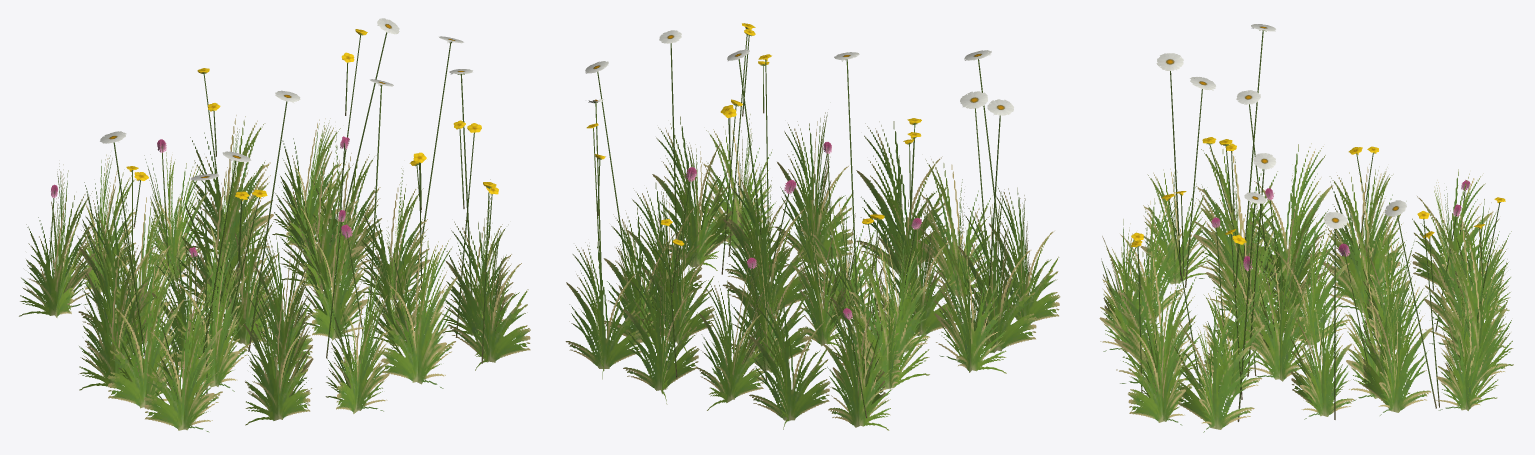
File: Wildflower_Patch.gltf
The picture shows the model from 3 angles, left to right: view 1: azimuth 30°, elevation 25°; view 2: azimuth 150°, elevation 25°; view 3: azimuth 270°, elevation 25°; orthographic projection. The views are drawn at different scales.
Visible parts, largest first — view 1: Wildflower patch; view 2: Wildflower patch; view 3: Wildflower patch.
Part boxes in pixels (x1,y1,x2,y2): Wildflower patch: (19, 18, 530, 432); Wildflower patch: (565, 23, 1060, 430); Wildflower patch: (1099, 24, 1513, 432).
Size of the model in its own units: 0.8267 by 0.5359 by 0.7886.
1 material, 1 textured.
